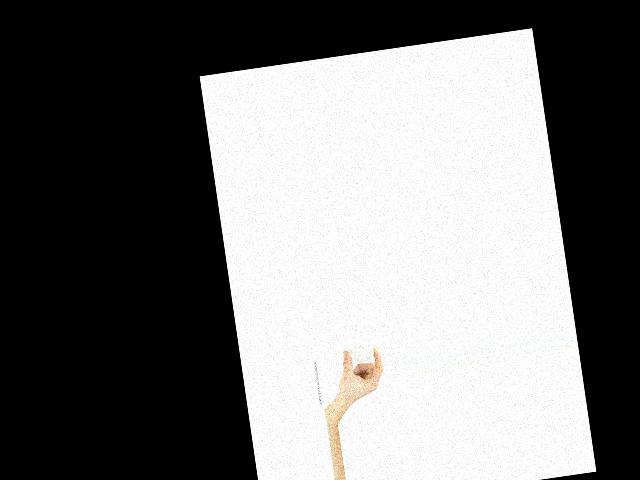egg: (348, 343, 375, 363)
